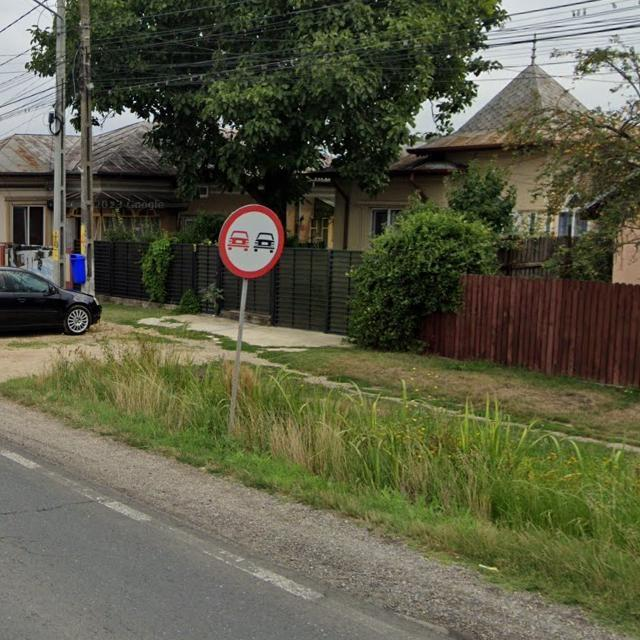forb_overtake: (219, 203, 285, 278)
